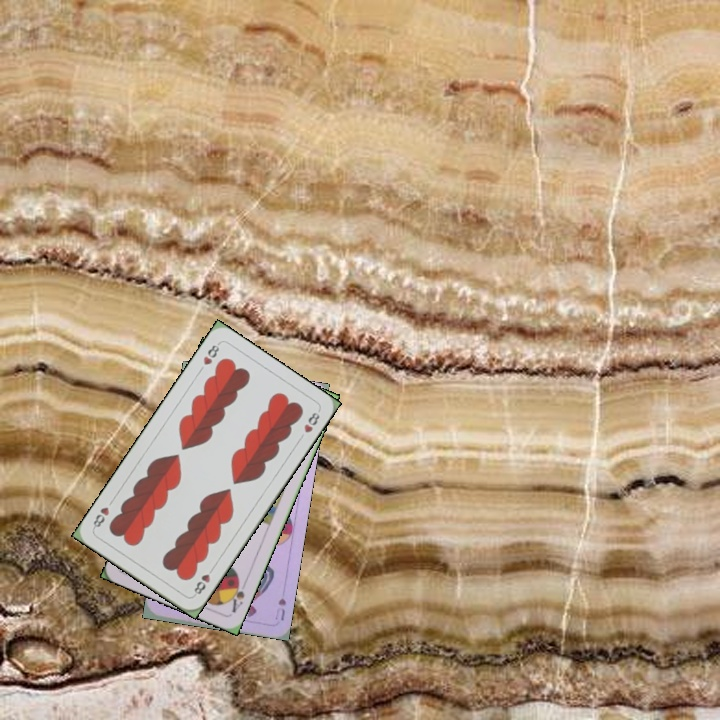H8: (189, 563, 217, 599), (199, 339, 222, 368)
SA: (224, 574, 247, 615)
SU: (271, 594, 288, 623)
